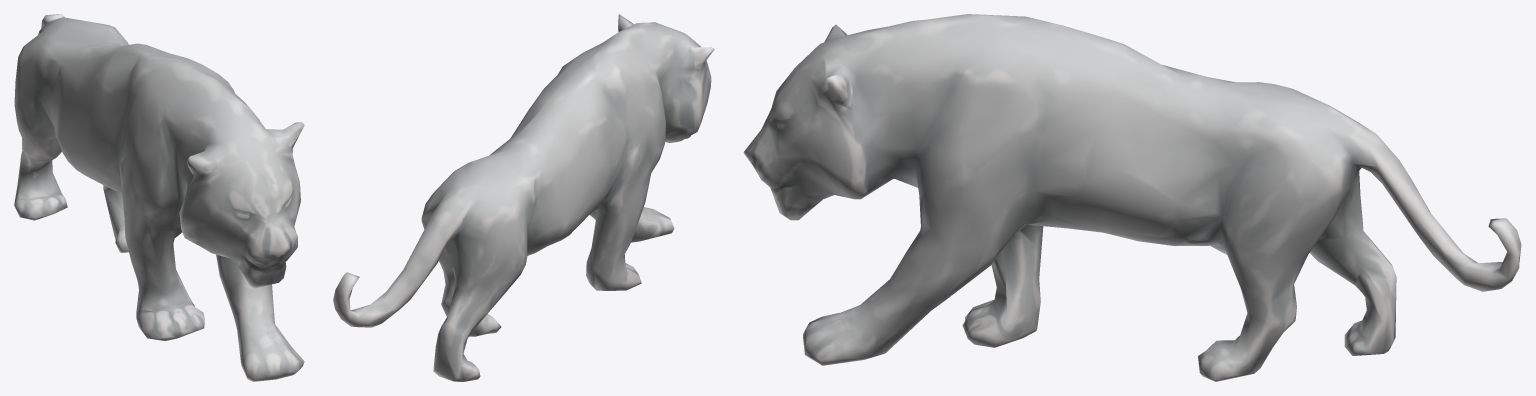
Rendered from ParkStatueTiger01.FBX.
The picture shows the model from 3 angles, left to right: view 1: azimuth 30°, elevation 25°; view 2: azimuth 150°, elevation 25°; view 3: azimuth 270°, elevation 25°; orthographic projection. The views are drawn at different scales.
Parts seen in each view (by area): view 1: ParkStatueTiger01; view 2: ParkStatueTiger01; view 3: ParkStatueTiger01.
Boxes of the visible parts, x1,y1,x2,y2 form: ParkStatueTiger01: [14, 14, 304, 381]; ParkStatueTiger01: [333, 14, 714, 381]; ParkStatueTiger01: [743, 14, 1521, 381].
Size of what is drawn, in the model's own units: 1.04 by 1.73 by 3.79.
